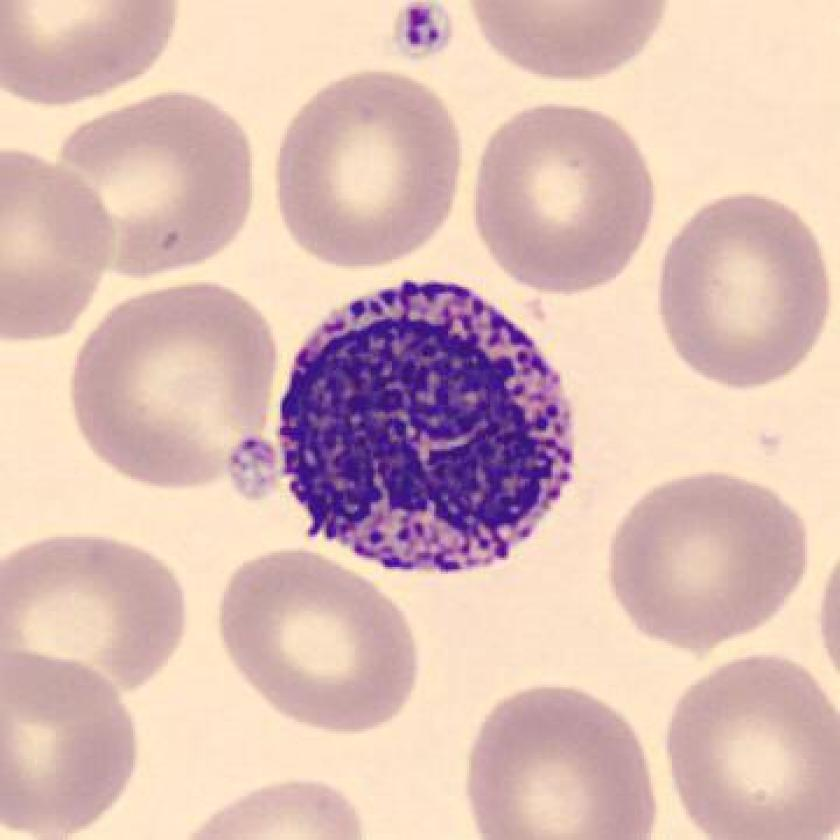basophil: (272, 274, 587, 584)
